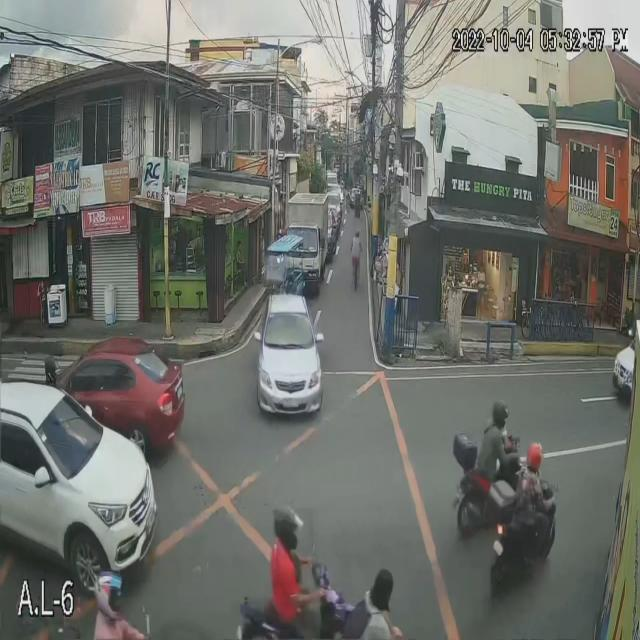full: (94, 570, 125, 622), (271, 503, 303, 552), (492, 400, 510, 427), (44, 358, 58, 380)
half: (526, 439, 544, 473)
